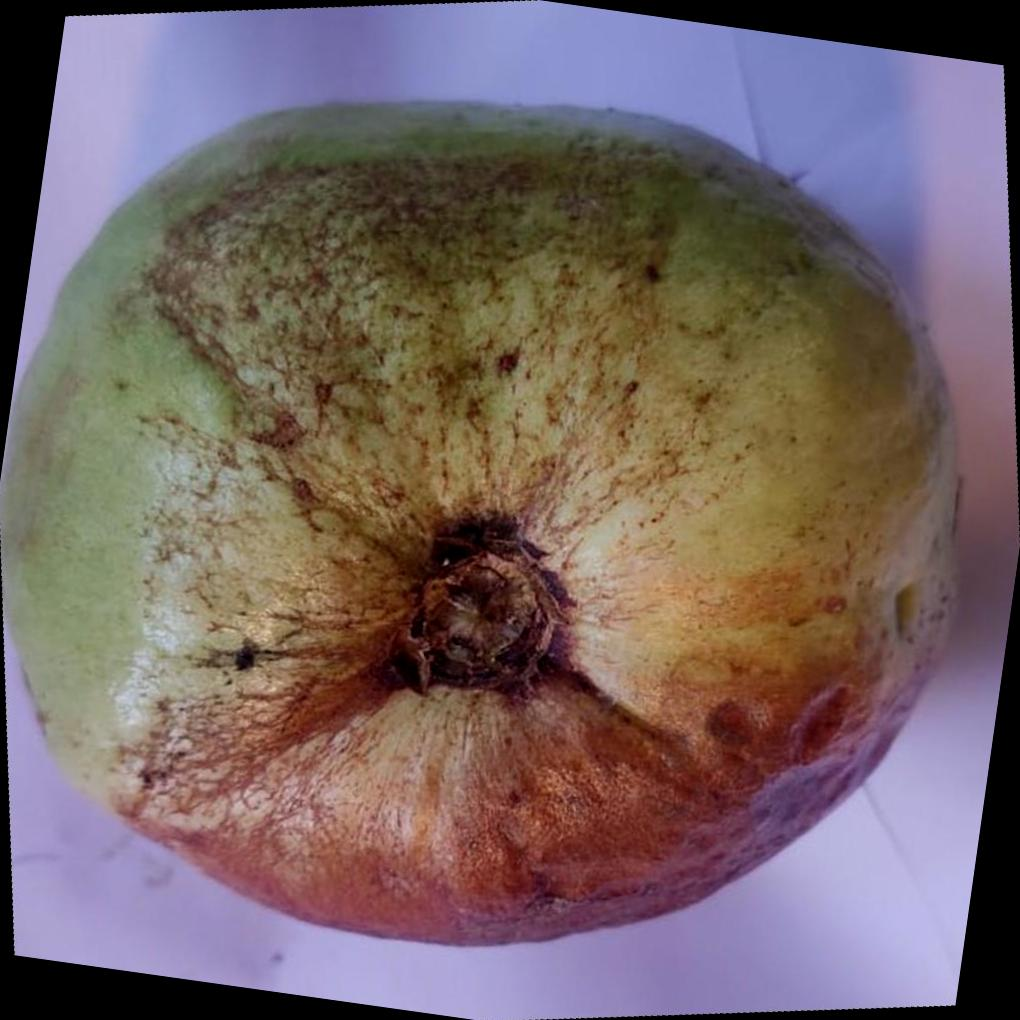FreshOrange: (1, 93, 960, 946)
